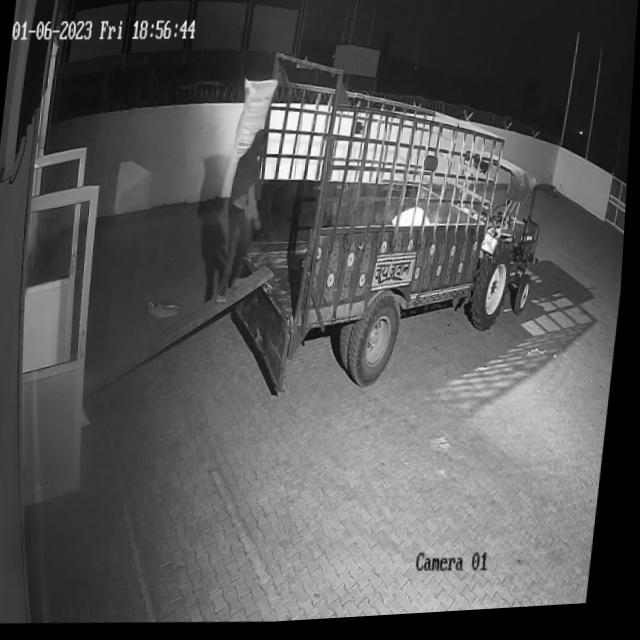sack: (234, 79, 280, 165)
